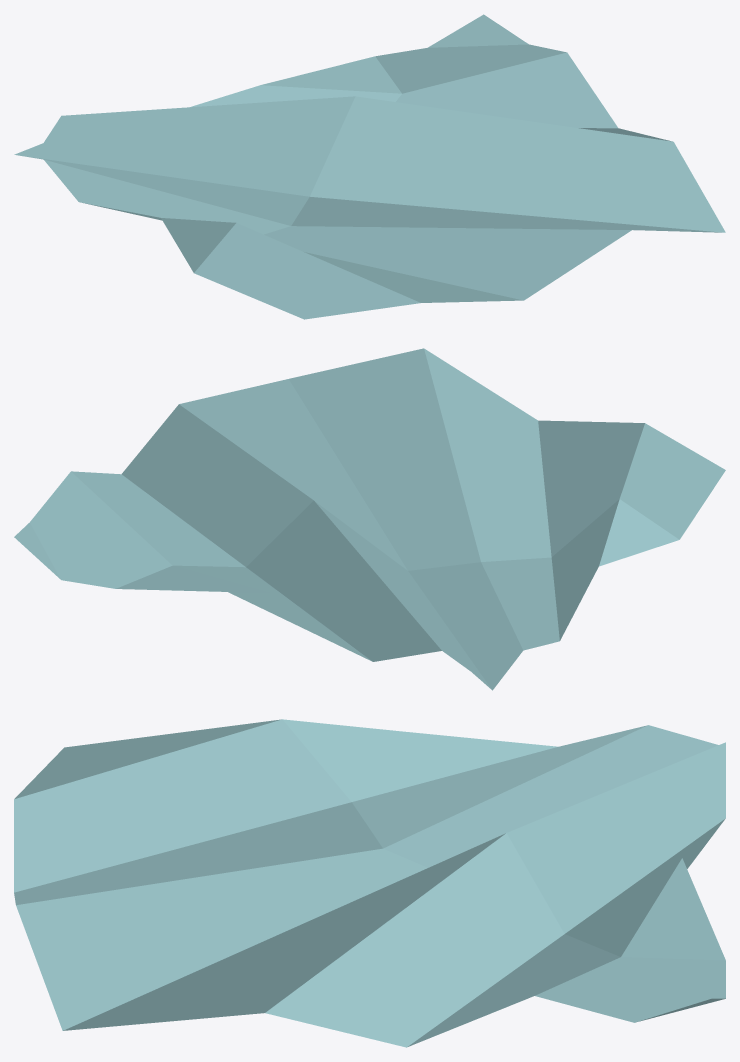
Rendered from crumpled_paper.fbx.
The picture shows the model from 3 angles, top to bottom: view 1: azimuth 30°, elevation 25°; view 2: azimuth 150°, elevation 25°; view 3: azimuth 270°, elevation 25°; orthographic projection. The views are drawn at different scales.
Parts seen in each view (by area): view 1: crumpled_paper; view 2: crumpled_paper; view 3: crumpled_paper.
Boxes of the visible parts, left/top/right/bottom form: crumpled_paper: left=14, top=14, right=725, bottom=319; crumpled_paper: left=14, top=348, right=725, bottom=690; crumpled_paper: left=14, top=719, right=725, bottom=1047.
Bounding box in the file's own units: 46.84 × 6.28 × 46.84.
